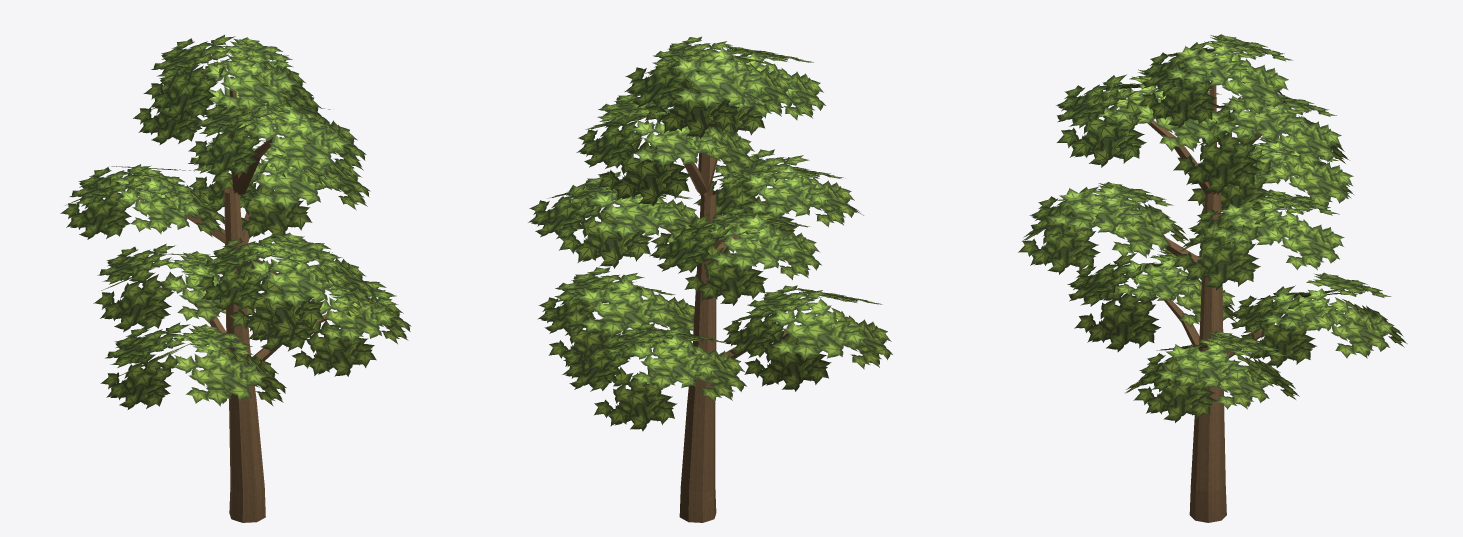
The model's file is maple_c.glb.
3 renders of one model, left to right at view 1: azimuth 30°, elevation 25°; view 2: azimuth 150°, elevation 25°; view 3: azimuth 270°, elevation 25°, orthographic.
Visible parts, largest first — view 1: maple_c; view 2: maple_c; view 3: maple_c.
Part boxes in pixels (x1,y1,x2,y2): maple_c: (60, 35, 411, 522); maple_c: (528, 36, 892, 522); maple_c: (1018, 34, 1407, 522).
Bounding box in the file's own units: 4.15 × 4.71 × 4.39.
2 materials, 2 textured.
